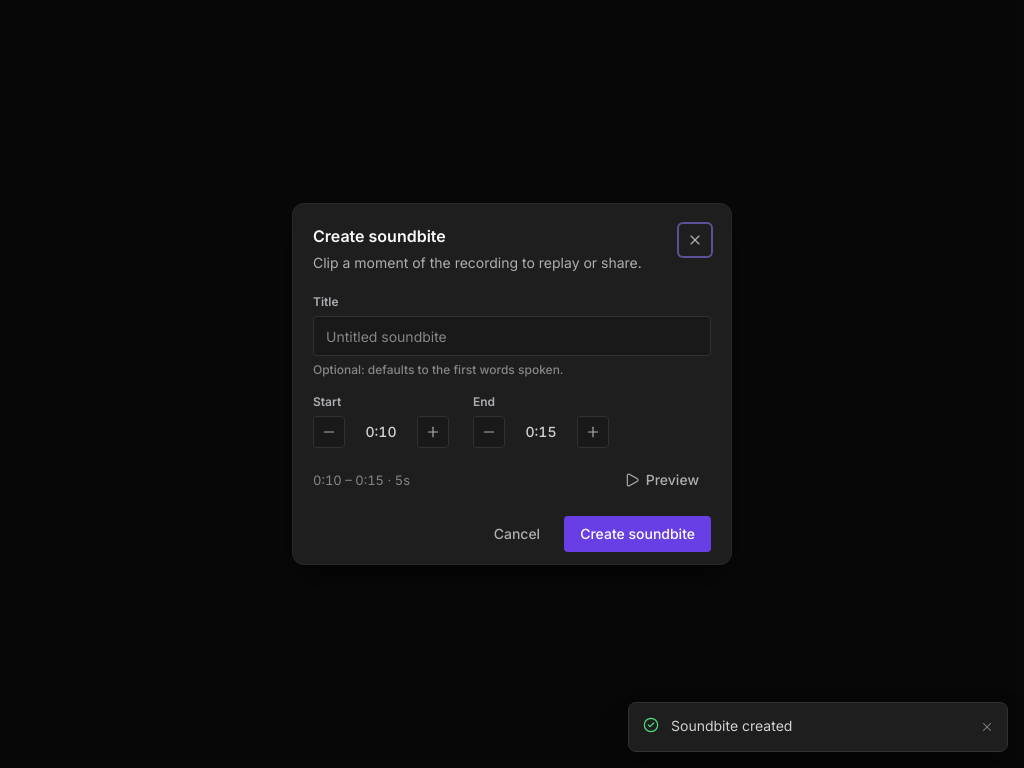
Test: CreateSoundbiteModal › closing with Cancel stops a running preview
Click the button "Preview" at (661, 480), box [612,464,711,496]
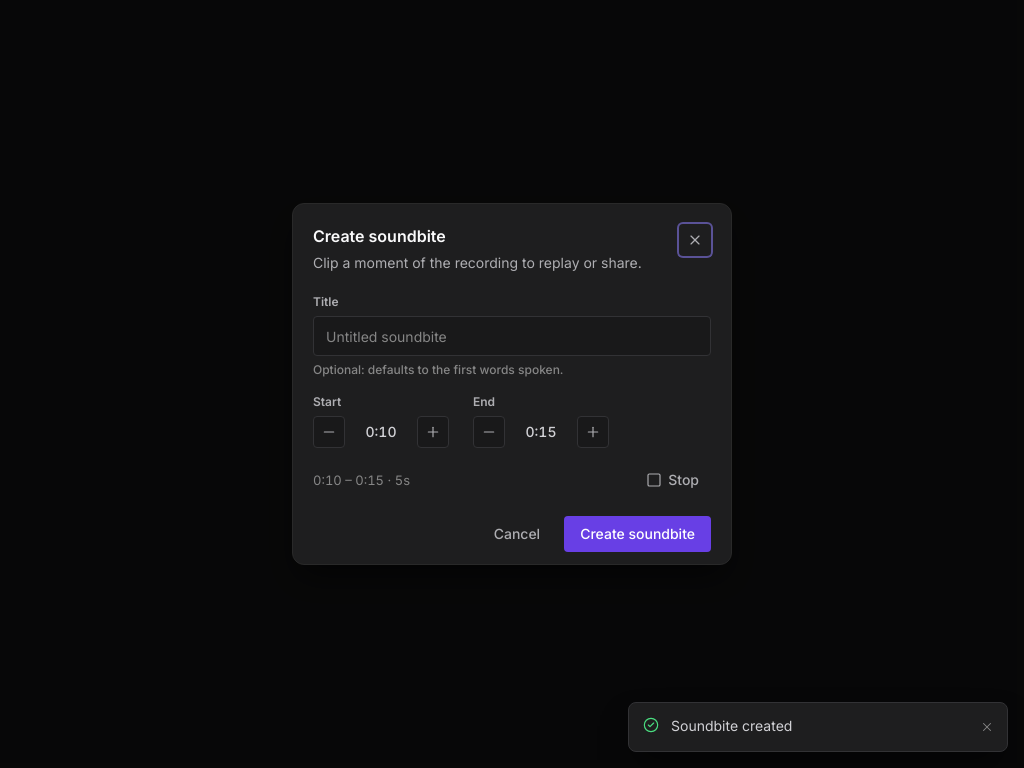
Expected: the button "Stop" is shown, [634,464,711,496]
Click the button "Cancel" at (517, 534), box [478,516,556,552]
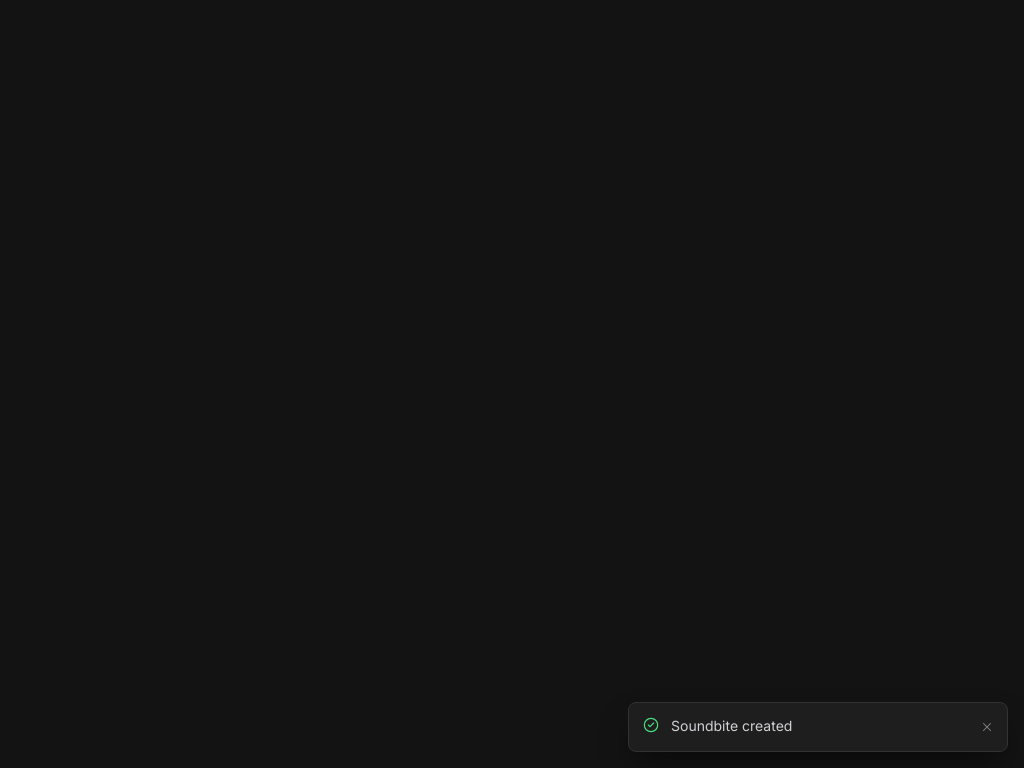
Expected: the dialog is gone
